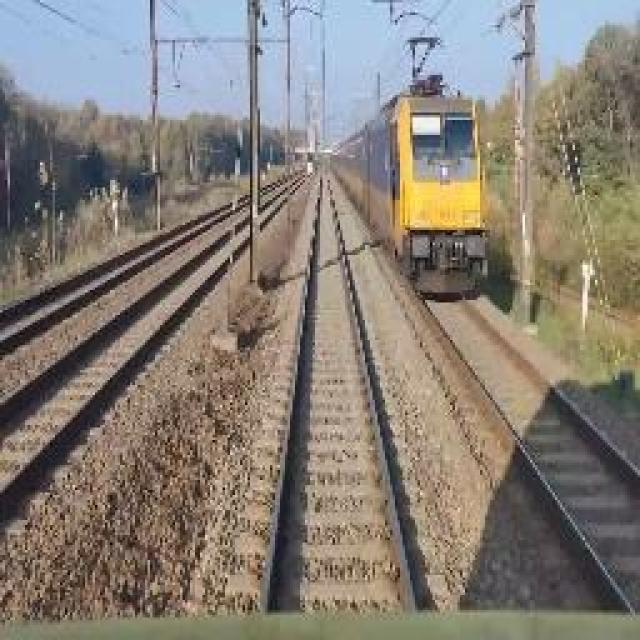rail: (1, 171, 312, 554), (215, 173, 466, 618), (399, 296, 640, 613)
